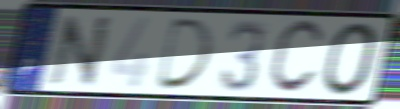3: (220, 17, 266, 95)
4: (107, 15, 152, 91)
C: (265, 17, 327, 97)
D: (152, 17, 216, 92)
N: (47, 14, 116, 89)
O: (321, 20, 381, 98)
